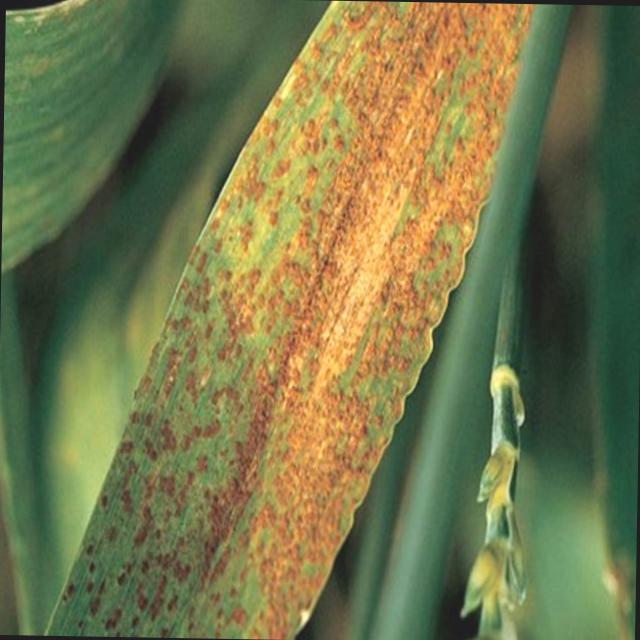leaf_rust: (48, 3, 556, 640)
